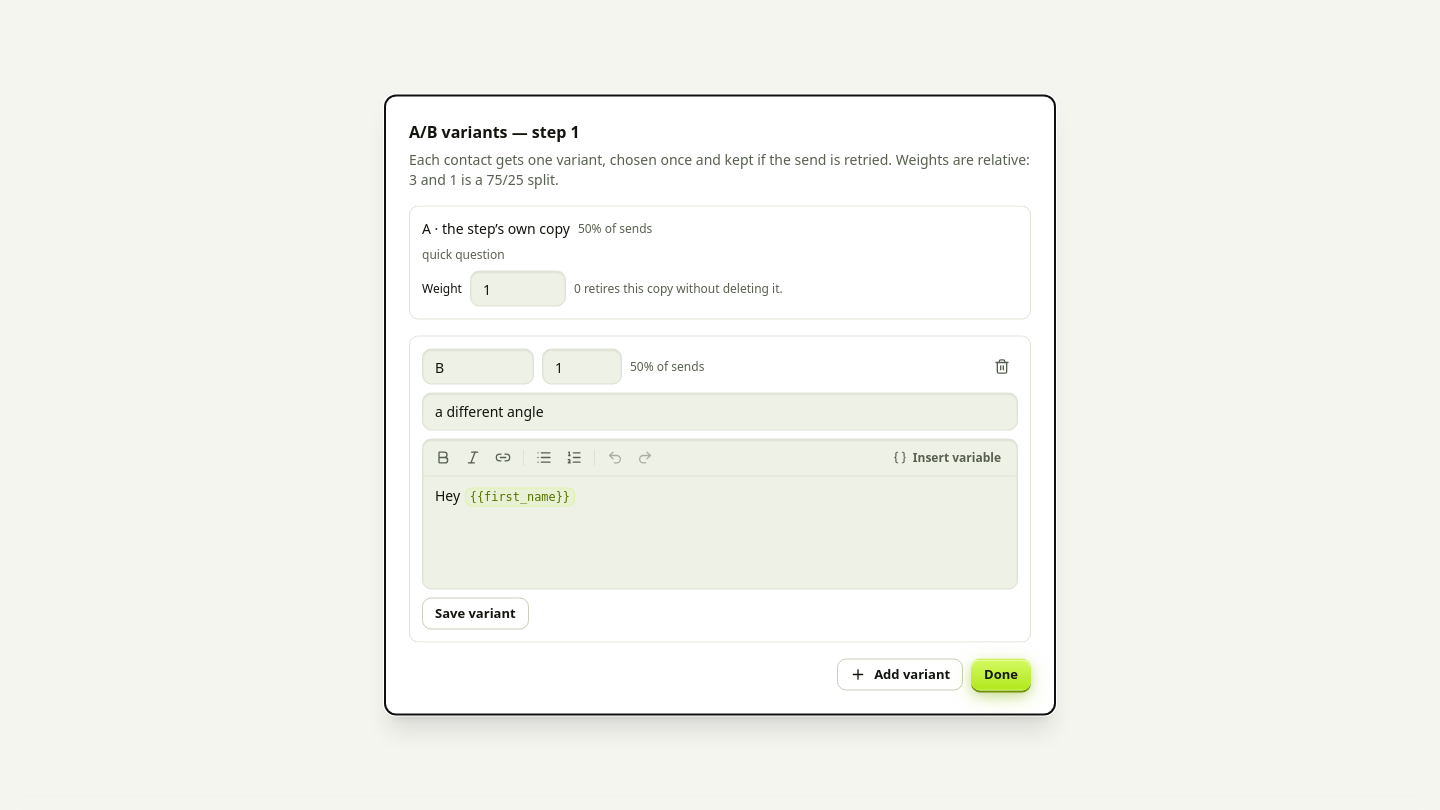
Test: a refused delete explains to use weight 0 instead
Click the button named "delete variant b": {"x": 1002, "y": 366} [986,350,1018,382]
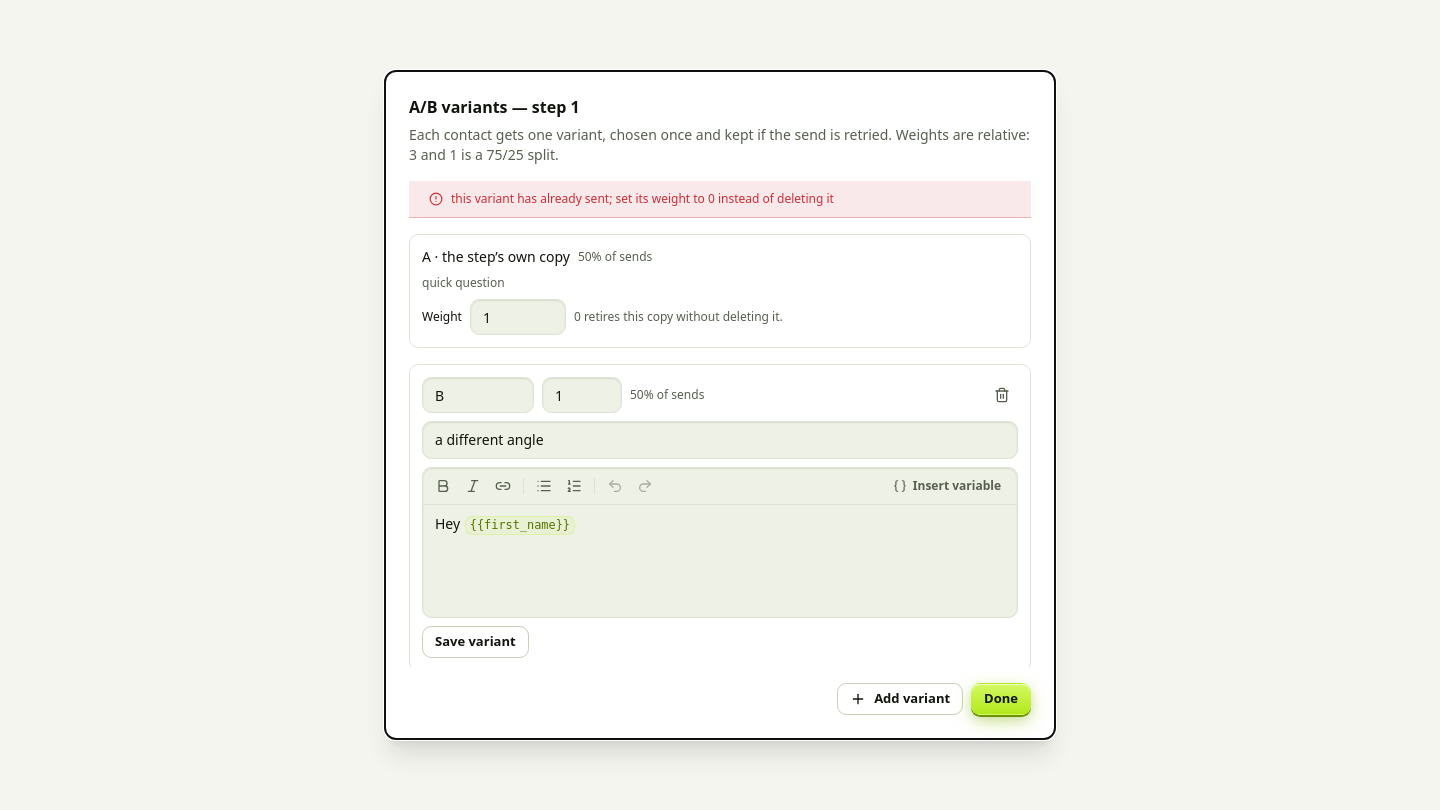
Result: the text "this variant has already sent; set its weight to 0 instead of deleting it" is shown at [409,181,1031,218]
